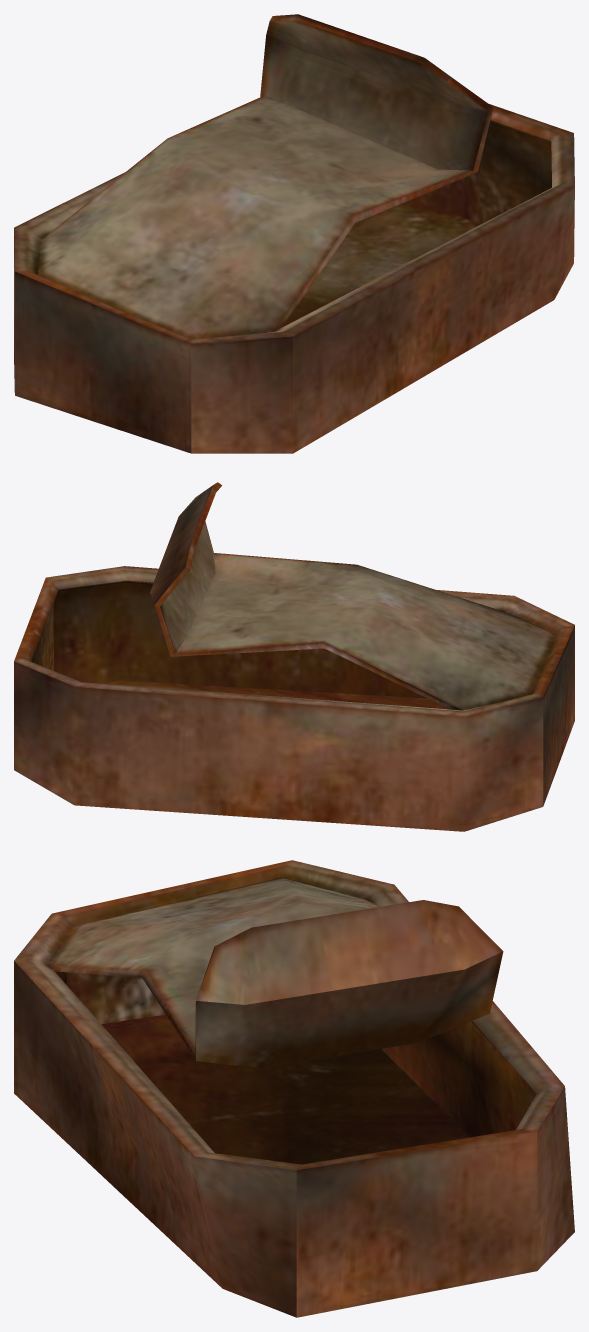
Rendered from crumpled_can_02.glb.
The picture shows the model from 3 angles, top to bottom: view 1: azimuth 30°, elevation 25°; view 2: azimuth 150°, elevation 25°; view 3: azimuth 270°, elevation 25°; orthographic projection. The views are drawn at different scales.
Visible parts, largest first — view 1: crumpled_can_02; view 2: crumpled_can_02; view 3: crumpled_can_02.
Boxes of the visible parts, x1,y1,x2,y2 form: crumpled_can_02: (14, 14, 574, 453); crumpled_can_02: (14, 482, 574, 831); crumpled_can_02: (14, 860, 574, 1317).
Size of what is drawn, in the model's own units: 0.1515 by 0.0675 by 0.1158.
1 material, 1 textured.
